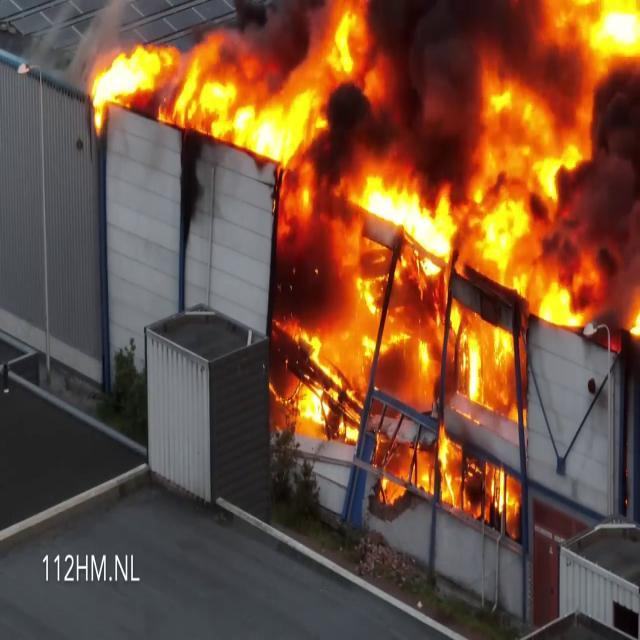Fire: (275, 0, 640, 489), (78, 2, 380, 150)
